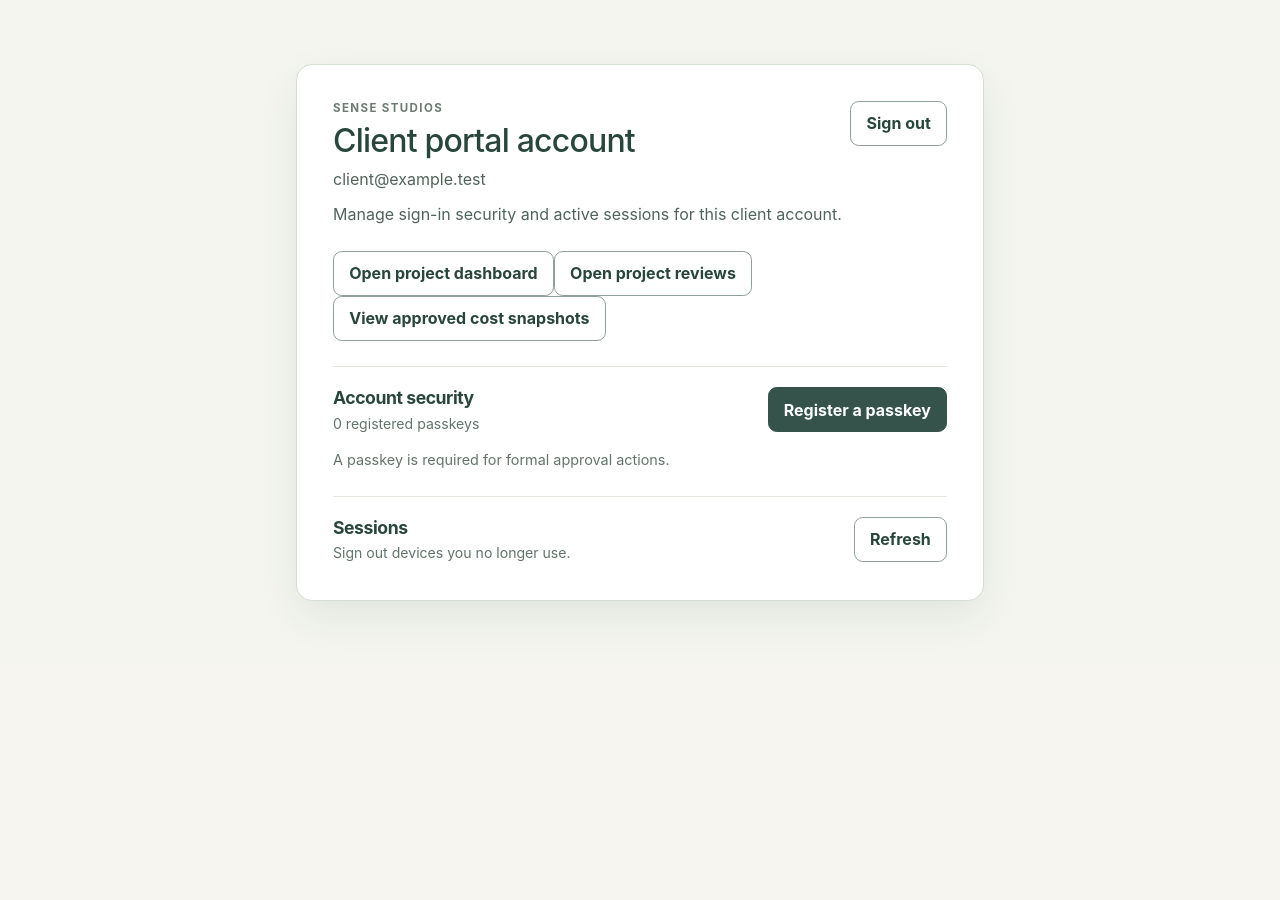
Test: client portal identity and security › sends CSRF with passkey registration and reports browser cancellation without leaking details
The width and height of the screenshot is (1280, 900).
Step 1. Click the button "Register a passkey" → x=857, y=410, box [768, 387, 947, 432]
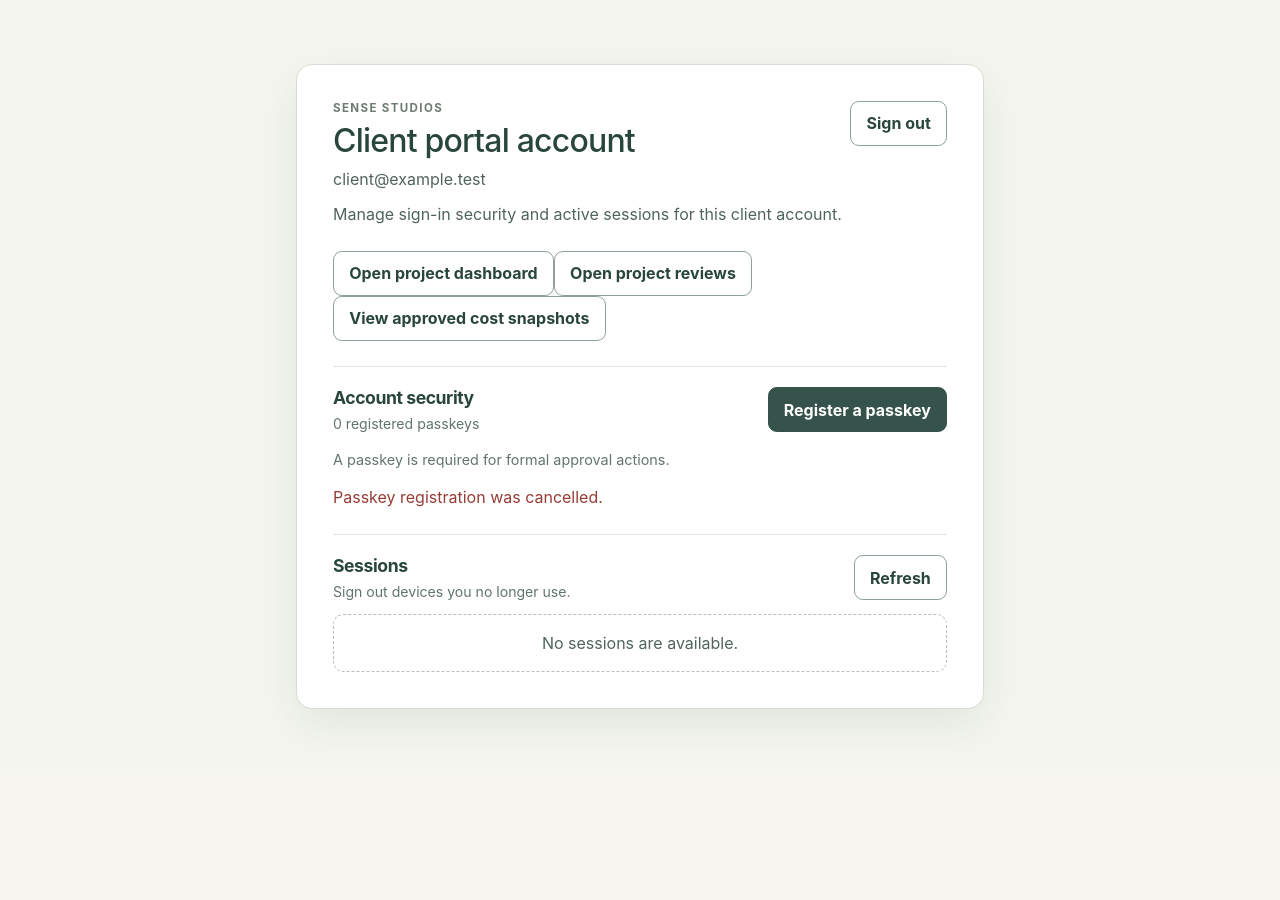
Expected: the message "Passkey registration was cancelled." is shown, [333, 486, 603, 506]
